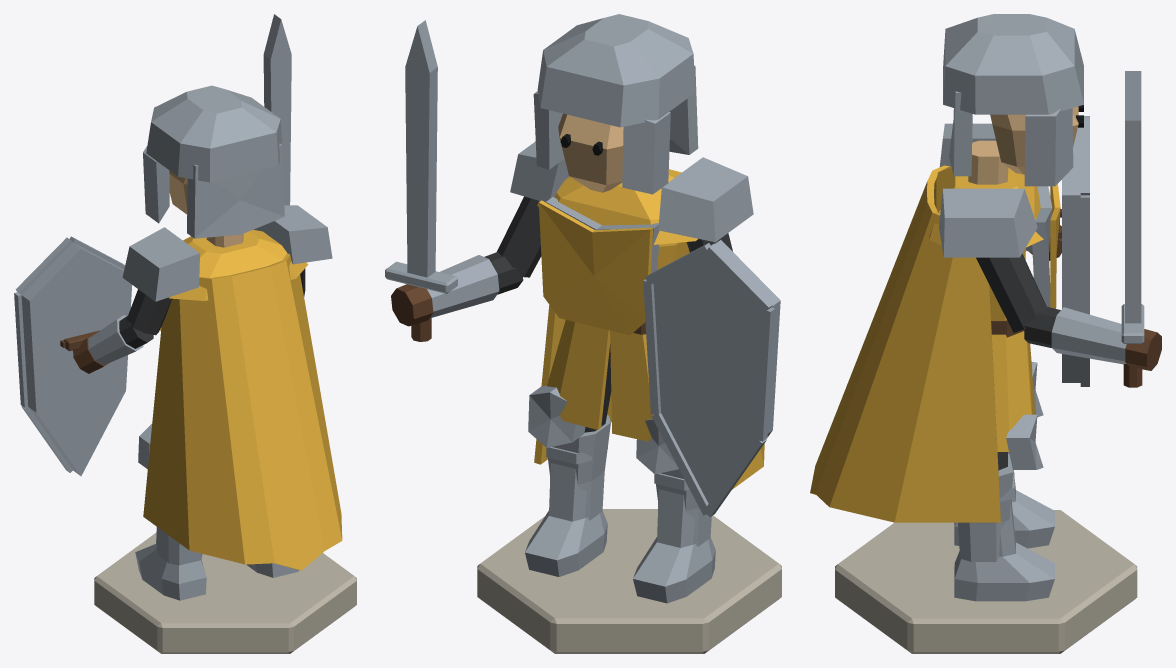
Rendered from human_soldier_t5.glb.
The picture shows the model from 3 angles, left to right: view 1: azimuth 30°, elevation 25°; view 2: azimuth 150°, elevation 25°; view 3: azimuth 270°, elevation 25°; orthographic projection. The views are drawn at different scales.
Parts seen in each view (by area): view 1: soldier_Wrapped_Back_Cape, Foundation_Hexagonal_Stone, iron_shield, helmet, helmet_back, shoulder_plate_left, Continuous_Shoulder_Mantle, sword_blade, shoulder_plate_right, Boot_-1, helmet_cheek_-1, left_bracer (+7 smaller); view 2: Foundation_Hexagonal_Stone, iron_shield, helmet, Rank_Cloth_Front_Tabard, sword_blade, shoulder_plate_left, Boot_-1, Boot_1, Split_Tunic_Front_1, Split_Tunic_Front_-1, Continuous_Shoulder_Mantle, Angular_Face (+23 smaller); view 3: soldier_Wrapped_Back_Cape, Foundation_Hexagonal_Stone, helmet, shoulder_plate_right, Boot_1, sword_blade, iron_shield, Continuous_Split_Tunic_Skirt, helmet_cheek_1, right_bracer, right_upper_sleeve, armored_greave_1 (+14 smaller).
Boxes of the visible parts, x1,y1,x2,y2 form: soldier_Wrapped_Back_Cape: (143,253,342,570); Foundation_Hexagonal_Stone: (94,533,356,653); iron_shield: (21,243,132,476); helmet: (146,85,281,182); helmet_back: (187,143,284,238); shoulder_plate_left: (122,227,199,301); Continuous_Shoulder_Mantle: (168,229,308,300); sword_blade: (263,14,291,205); shoulder_plate_right: (253,205,332,264); Boot_-1: (135,527,206,600); helmet_cheek_-1: (143,146,169,223); left_bracer: (88,315,143,365); Foundation_Hexagonal_Stone: (477,509,781,653); iron_shield: (653,240,780,503); helmet: (537,14,695,127); Rank_Cloth_Front_Tabard: (538,200,653,335); sword_blade: (405,20,437,277); shoulder_plate_left: (658,157,753,242); Boot_-1: (633,489,715,603); Boot_1: (525,463,607,576); Split_Tunic_Front_1: (560,322,610,429); Split_Tunic_Front_-1: (610,330,652,441); Continuous_Shoulder_Mantle: (537,169,697,244); Angular_Face: (558,113,623,192); soldier_Wrapped_Back_Cape: (810,165,1000,522); Foundation_Hexagonal_Stone: (835,510,1137,653); helmet: (943,14,1083,114); shoulder_plate_right: (939,188,1037,257); Boot_1: (954,499,1054,601); sword_blade: (1125,71,1141,323); iron_shield: (1062,127,1080,382); Continuous_Split_Tunic_Skirt: (991,331,1031,451); helmet_cheek_1: (1024,108,1073,186); right_bracer: (1051,307,1126,364); right_upper_sleeve: (976,253,1046,332); armored_greave_1: (958,454,1013,561).
Size of the model in its own units: 1.26 by 2.01 by 1.08.
